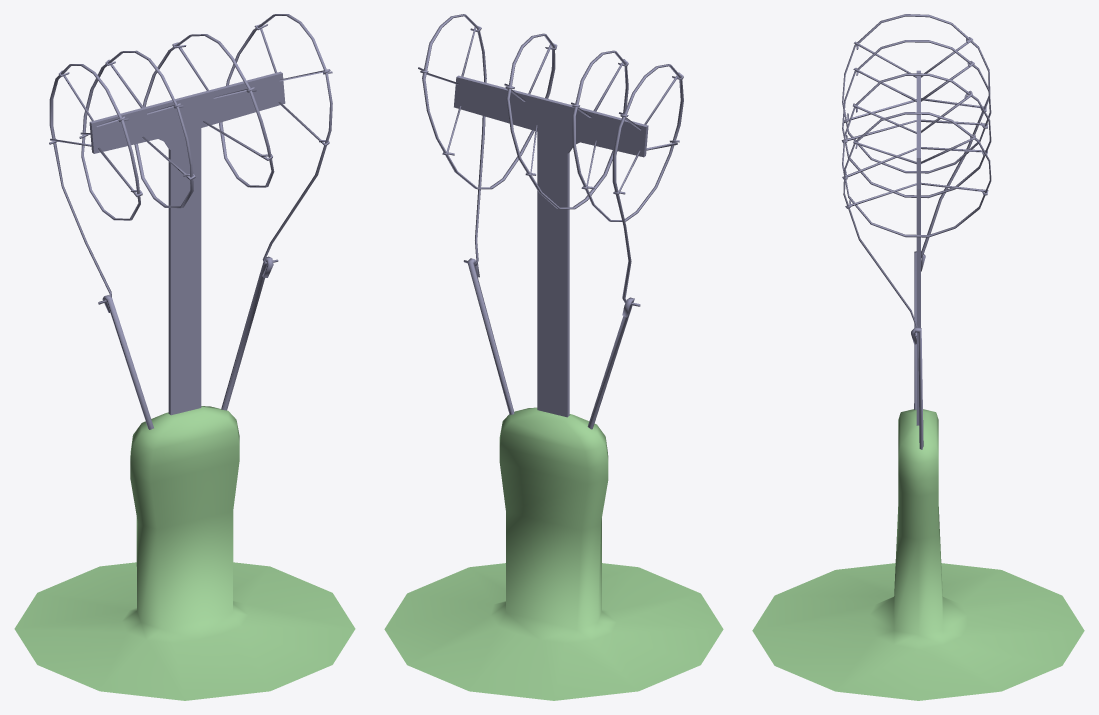
The model's file is SM_Electrode_3.FBX.
3 views of the same model, side by side, from view 1: azimuth 30°, elevation 25°; view 2: azimuth 150°, elevation 25°; view 3: azimuth 270°, elevation 25° (orthographic). The views are drawn at different scales.
Visible parts, largest first — view 1: Glow_Bulb_Shtengel_1, Glow_Bulb_Shtengel_2, Glow_Bulb_Electrode; view 2: Glow_Bulb_Shtengel_1, Glow_Bulb_Shtengel_2, Glow_Bulb_Electrode; view 3: Glow_Bulb_Shtengel_1, Glow_Bulb_Electrode, Glow_Bulb_Shtengel_2.
Boxes of the visible parts, x1,y1,x2,y2 form: Glow_Bulb_Shtengel_1: [14, 406, 355, 700]; Glow_Bulb_Shtengel_2: [89, 71, 285, 415]; Glow_Bulb_Electrode: [49, 14, 332, 429]; Glow_Bulb_Shtengel_1: [384, 407, 723, 700]; Glow_Bulb_Shtengel_2: [454, 75, 648, 417]; Glow_Bulb_Electrode: [418, 14, 683, 429]; Glow_Bulb_Shtengel_1: [752, 409, 1084, 700]; Glow_Bulb_Electrode: [841, 14, 991, 449]; Glow_Bulb_Shtengel_2: [916, 70, 920, 425].
Size of the model in its own units: 3.13 by 3.13 by 6.33.
